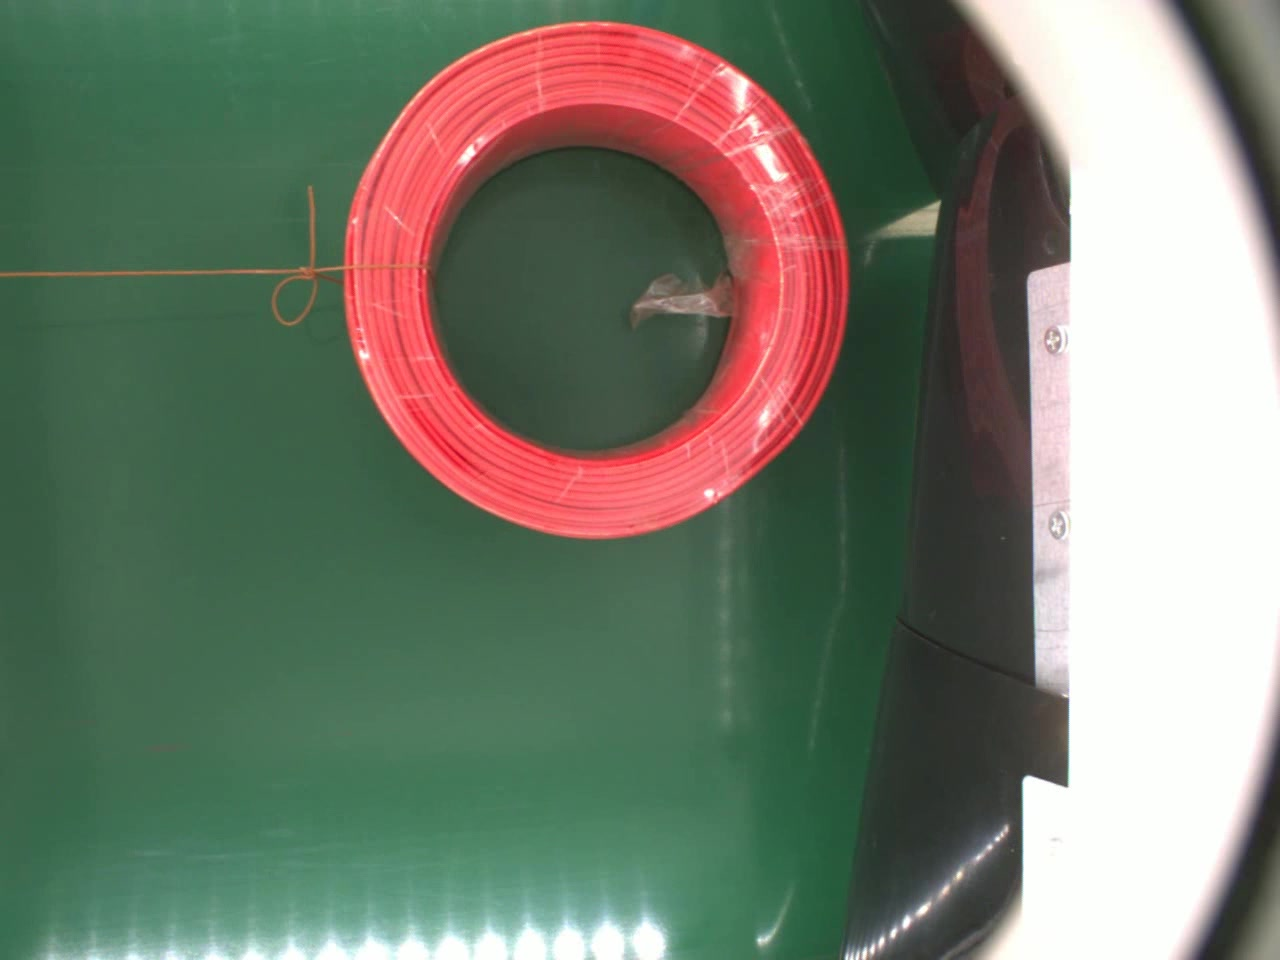red: (340, 16, 863, 546)
